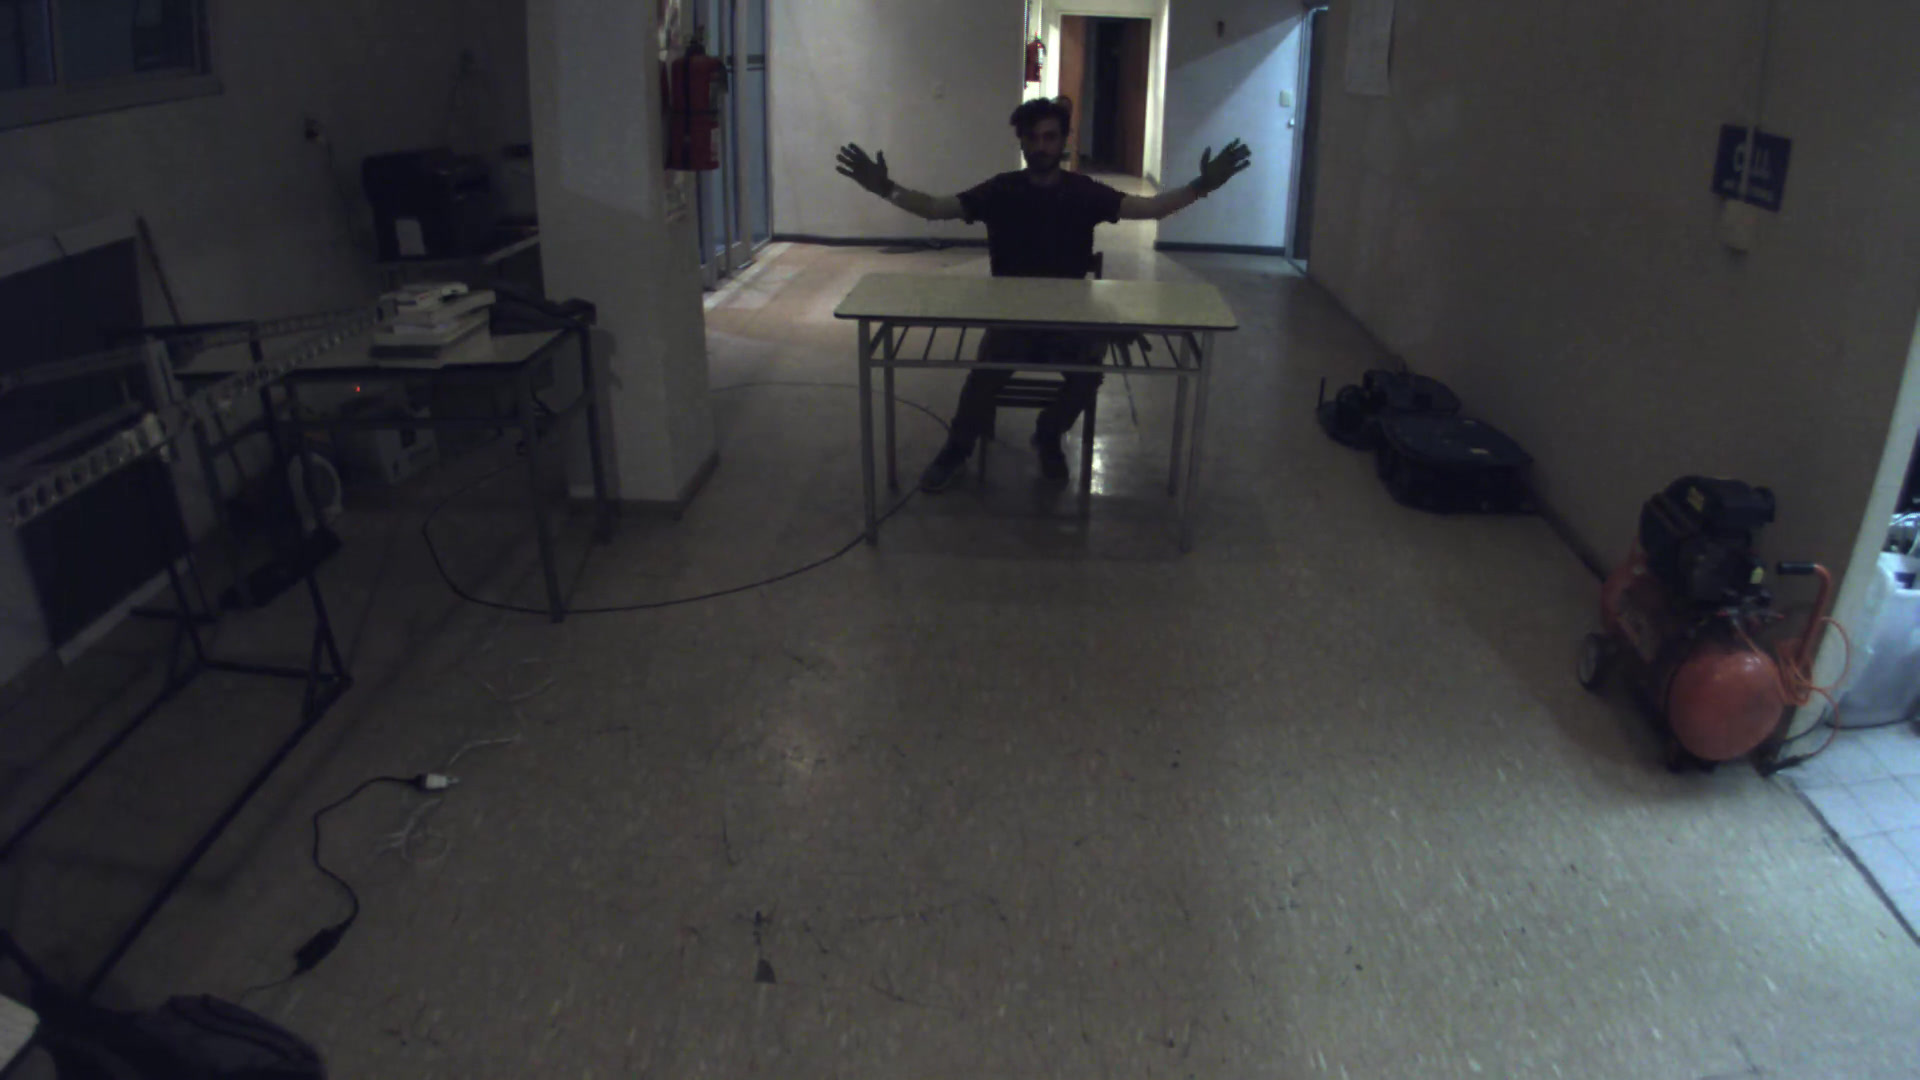hand: (831, 137, 913, 212), (1189, 136, 1261, 206)
